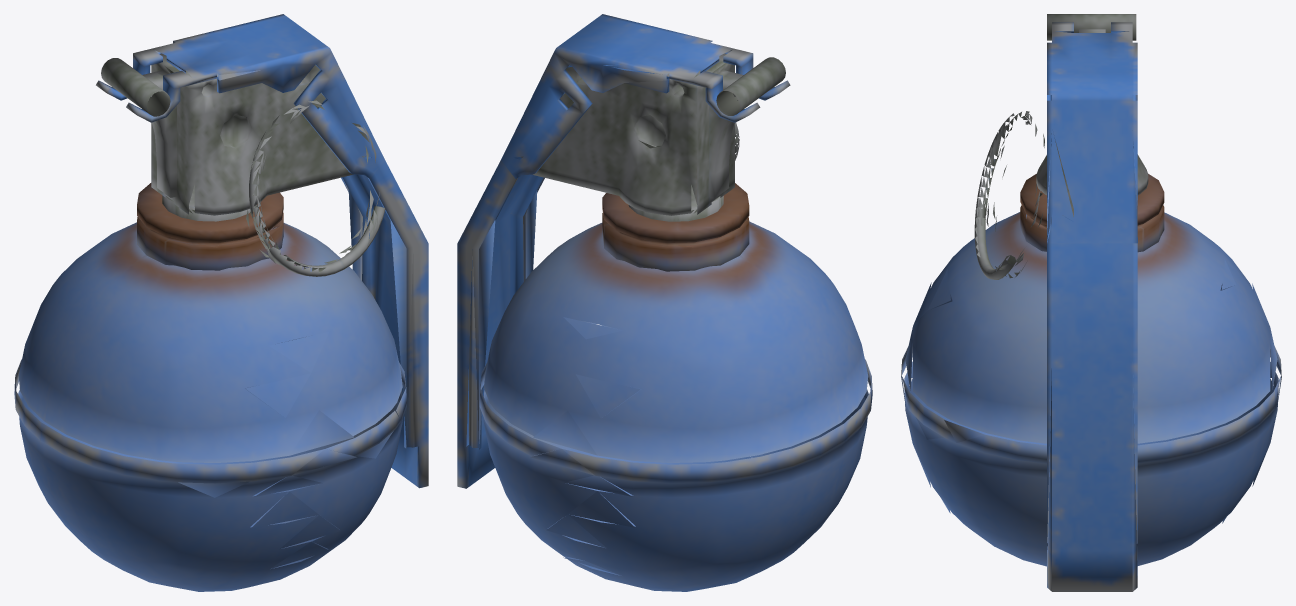
The model's file is grenade.glb.
The picture shows the model from 3 angles, left to right: view 1: azimuth 30°, elevation 25°; view 2: azimuth 150°, elevation 25°; view 3: azimuth 270°, elevation 25°; orthographic projection. The views are drawn at different scales.
Parts seen in each view (by area): view 1: SM_M69_Frag_LOD0_Frag001_v1_0; view 2: SM_M69_Frag_LOD0_Frag001_v1_0; view 3: SM_M69_Frag_LOD0_Frag001_v1_0.
Part boxes in pixels (x1,y1,x2,y2): SM_M69_Frag_LOD0_Frag001_v1_0: [14, 14, 428, 591]; SM_M69_Frag_LOD0_Frag001_v1_0: [457, 14, 872, 591]; SM_M69_Frag_LOD0_Frag001_v1_0: [901, 14, 1281, 591].
Size of the model in its own units: 0.2394 by 0.325 by 0.2225.
1 material, 1 textured.
